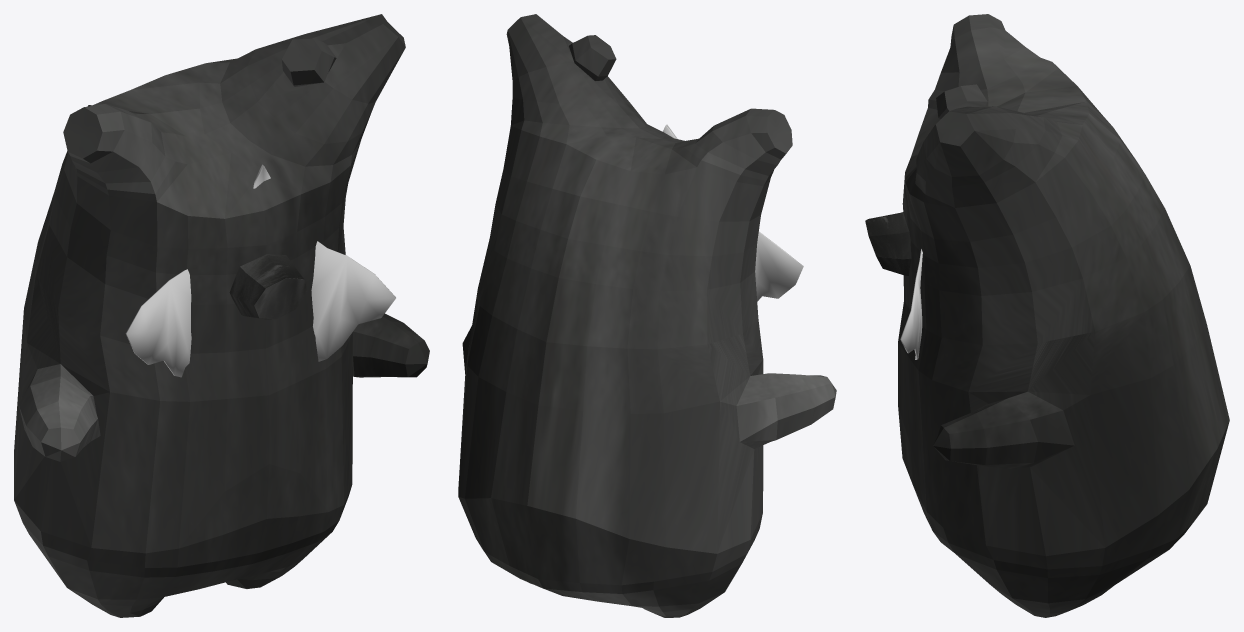
The model's file is frame_0009.obj.
The picture shows the model from 3 angles, left to right: view 1: azimuth 30°, elevation 25°; view 2: azimuth 150°, elevation 25°; view 3: azimuth 270°, elevation 25°; orthographic projection. The views are drawn at different scales.
Visible parts, largest first — view 1: korok, leaf, nose; view 2: korok, leaf; view 3: korok, nose, leaf.
Boxes of the visible parts, box(x1,y1,x2,y2) form: korok: box(14, 14, 429, 617); leaf: box(125, 164, 395, 377); nose: box(229, 254, 307, 319); korok: box(458, 14, 836, 617); leaf: box(663, 124, 803, 301); korok: box(898, 14, 1229, 617); nose: box(865, 212, 911, 275); leaf: box(900, 249, 922, 359).
Bounding box in the file's own units: 1.48 × 2.13 × 1.3.
